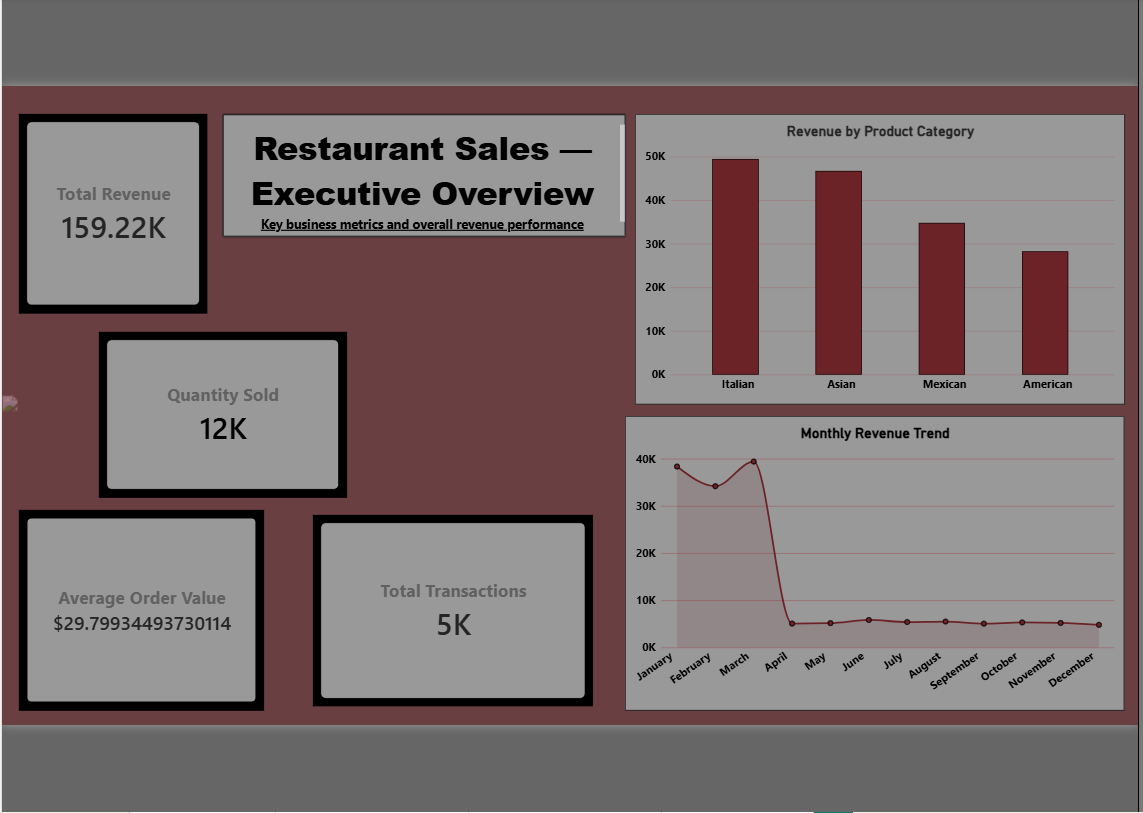

The dashboard page shown, as its layout file describes it:
{"tool":"powerbi","page":{"name":"Executive Overview","canvas":[1920,1080],"ordinal":0},"visuals":[{"type":"cardVisual","fields":{"Data":["order_details.Total Revenue"]},"box":[29.6,47.8,318.5,336.7],"z":0},{"type":"cardVisual","fields":{"Data":["order_details.Total Transactions"]},"box":[525.5,725.7,473.2,323],"z":1},{"type":"cardVisual","fields":{"Data":["order_details.Quantity Sold"]},"box":[163.8,416.3,418.6,279.8],"z":2},{"type":"cardVisual","fields":{"Data":["order_details.Average Order Value"]},"box":[29.6,716.6,414,339],"z":3},{"type":"lineChart","title":"Monthly Revenue Trend","fields":{"Category":["order_details.order_date.Variation.Date Hierarchy.Month"],"Y":["order_details.Total Revenue"]},"box":[1053.3,557.3,844,498.2],"z":4},{"type":"clusteredColumnChart","title":"Revenue by Product Category","fields":{"Category":["menu_items.category"],"Y":["order_details.Total Revenue"]},"box":[1069.2,47.8,828.1,491.4],"z":5},{"type":"textbox","box":[373.1,47.8,680.2,207],"z":6}]}

Visuals, with their boxes in screenshot pixels (x1, y1, x2, y2):
cardVisual - order_details.Total Revenue: BBox(23, 114, 210, 312)
cardVisual - order_details.Total Transactions: BBox(314, 512, 592, 702)
cardVisual - order_details.Quantity Sold: BBox(102, 331, 348, 495)
cardVisual - order_details.Average Order Value: BBox(23, 507, 266, 706)
"Monthly Revenue Trend" lineChart: BBox(624, 413, 1120, 706)
"Revenue by Product Category" clusteredColumnChart: BBox(634, 114, 1120, 403)
textbox: BBox(225, 114, 624, 236)
